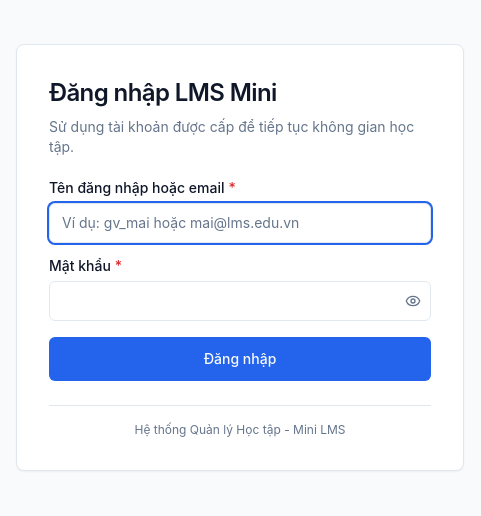
M1 LoginPage & LoginForm (US-01) › clears field errors as user starts typing
The width and height of the screenshot is (481, 516).
Click the button "Đăng nhập" at (240, 358), box left=49, top=336, right=431, bottom=380
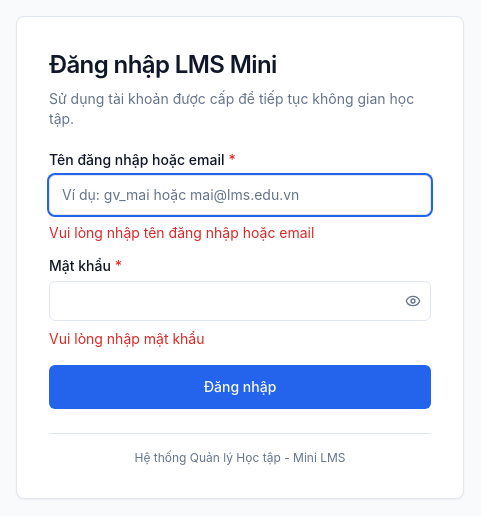
Check: the text "Vui lòng nhập tên đăng nhập hoặc email" is shown, box left=49, top=224, right=314, bottom=240
Type "gv_mai" into the field labelled "Tên đăng nhập hoặc email*" at (240, 194), box left=49, top=174, right=431, bottom=214
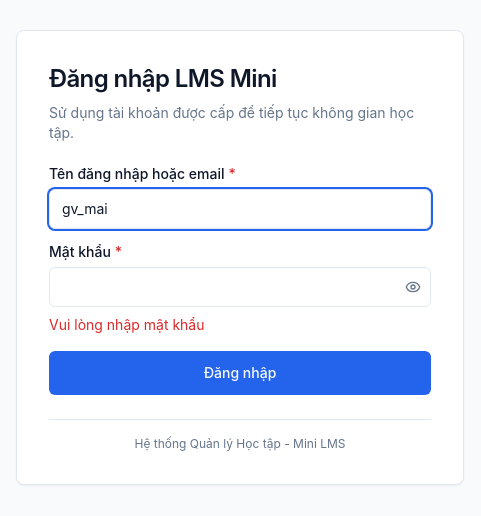
Check: the text "Vui lòng nhập tên đăng nhập hoặc email" is gone
